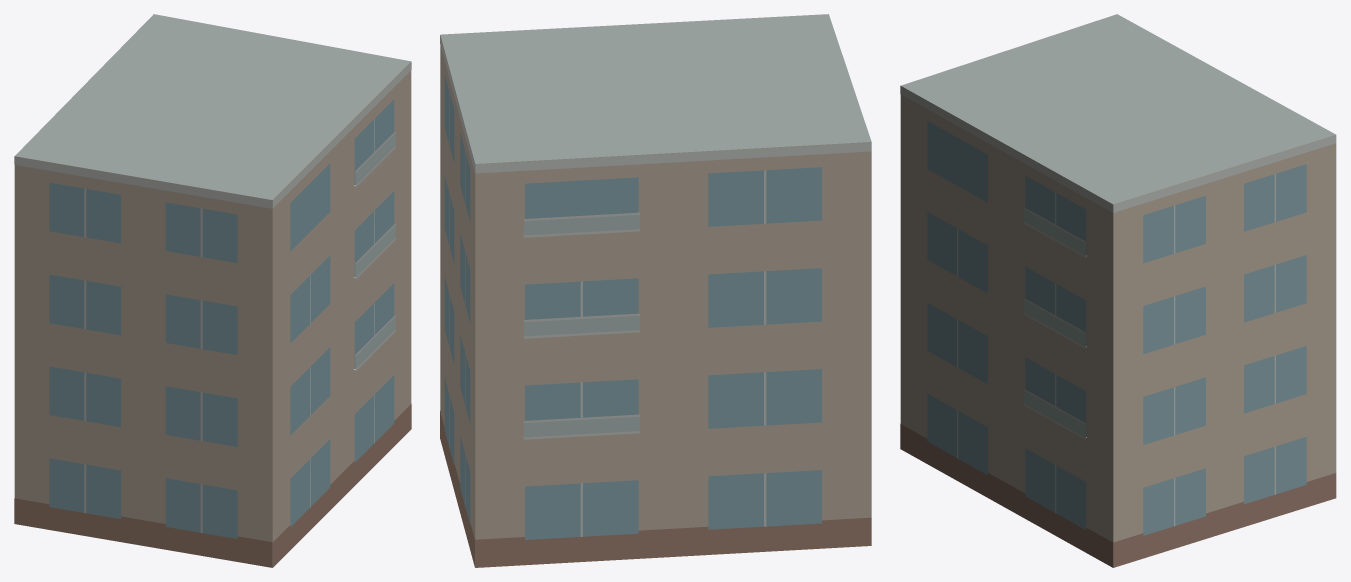
Rendered from survey-upis-32894020.glb.
3 views of the same model, side by side, from view 1: azimuth 30°, elevation 25°; view 2: azimuth 150°, elevation 25°; view 3: azimuth 270°, elevation 25° (orthographic). The views are drawn at different scales.
Visible parts, largest first — view 1: survey-upis-32894020.tmp; view 2: survey-upis-32894020.tmp; view 3: survey-upis-32894020.tmp.
Boxes of the visible parts, x1,y1,x2,y2 form: survey-upis-32894020.tmp: (14, 14, 411, 567); survey-upis-32894020.tmp: (440, 14, 871, 567); survey-upis-32894020.tmp: (900, 14, 1336, 567).
Bounding box in the file's own units: 11.7 × 10.4 × 11.31.
